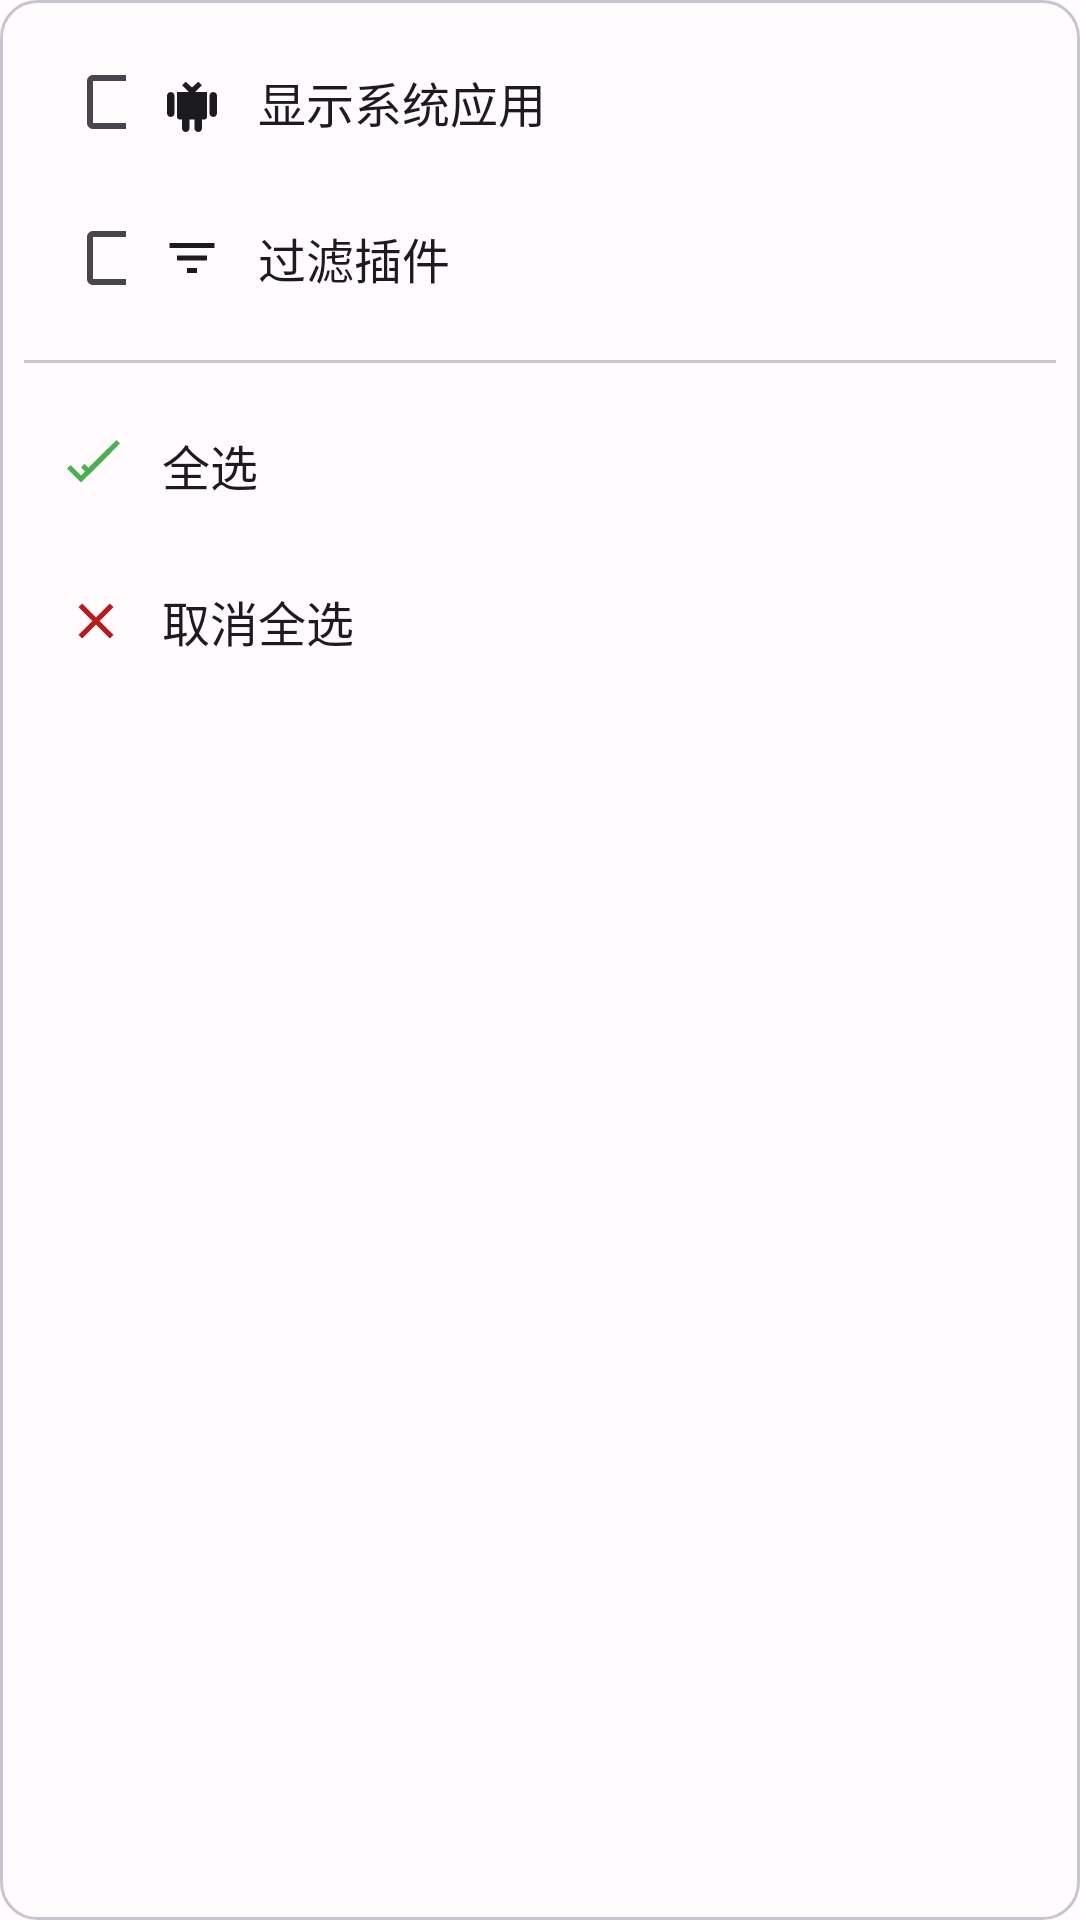

Named icons in this screenshot (1080×1920) and their bounding boxes, [x1=x1, y1=y1, x2=x2, y2=y2]:
check all: [x1=67, y1=440, x2=120, y2=482]
clear: [x1=78, y1=603, x2=114, y2=639]
filter: [x1=169, y1=243, x2=215, y2=273]
